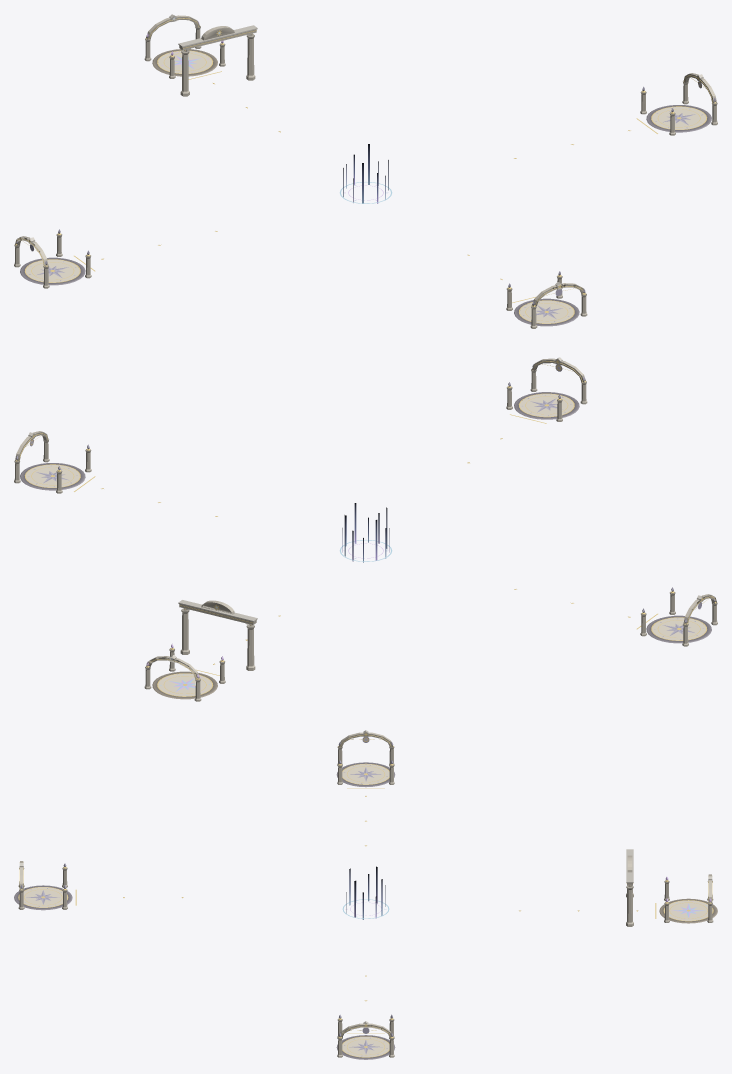
The model's file is portals_lite.glb.
The picture shows the model from 3 angles, top to bottom: view 1: azimuth 30°, elevation 25°; view 2: azimuth 150°, elevation 25°; view 3: azimuth 270°, elevation 25°; orthographic projection. The views are drawn at different scales.
Parts seen in each view (by area): view 1: Portal_stone, Portal_paving, Portal_props; view 2: Portal_stone, Portal_paving, Portal_props, Portal_fx; view 3: Portal_stone, Portal_paving, Portal_props.
Part boxes in pixels (x1=…): Portal_stone: x1=14, y1=14, x2=717, y2=328; Portal_paving: x1=25, y1=51, x2=706, y2=323; Portal_props: x1=15, y1=18, x2=715, y2=323; Portal_stone: x1=14, y1=357, x2=717, y2=701; Portal_paving: x1=25, y1=394, x2=706, y2=696; Portal_props: x1=16, y1=360, x2=716, y2=696; Portal_fx: x1=342, y1=503, x2=389, y2=562; Portal_stone: x1=14, y1=730, x2=717, y2=1059; Portal_paving: x1=19, y1=764, x2=712, y2=1057; Portal_props: x1=18, y1=733, x2=713, y2=1057.
Size of the model in its own units: 96 by 7.95 by 96.
